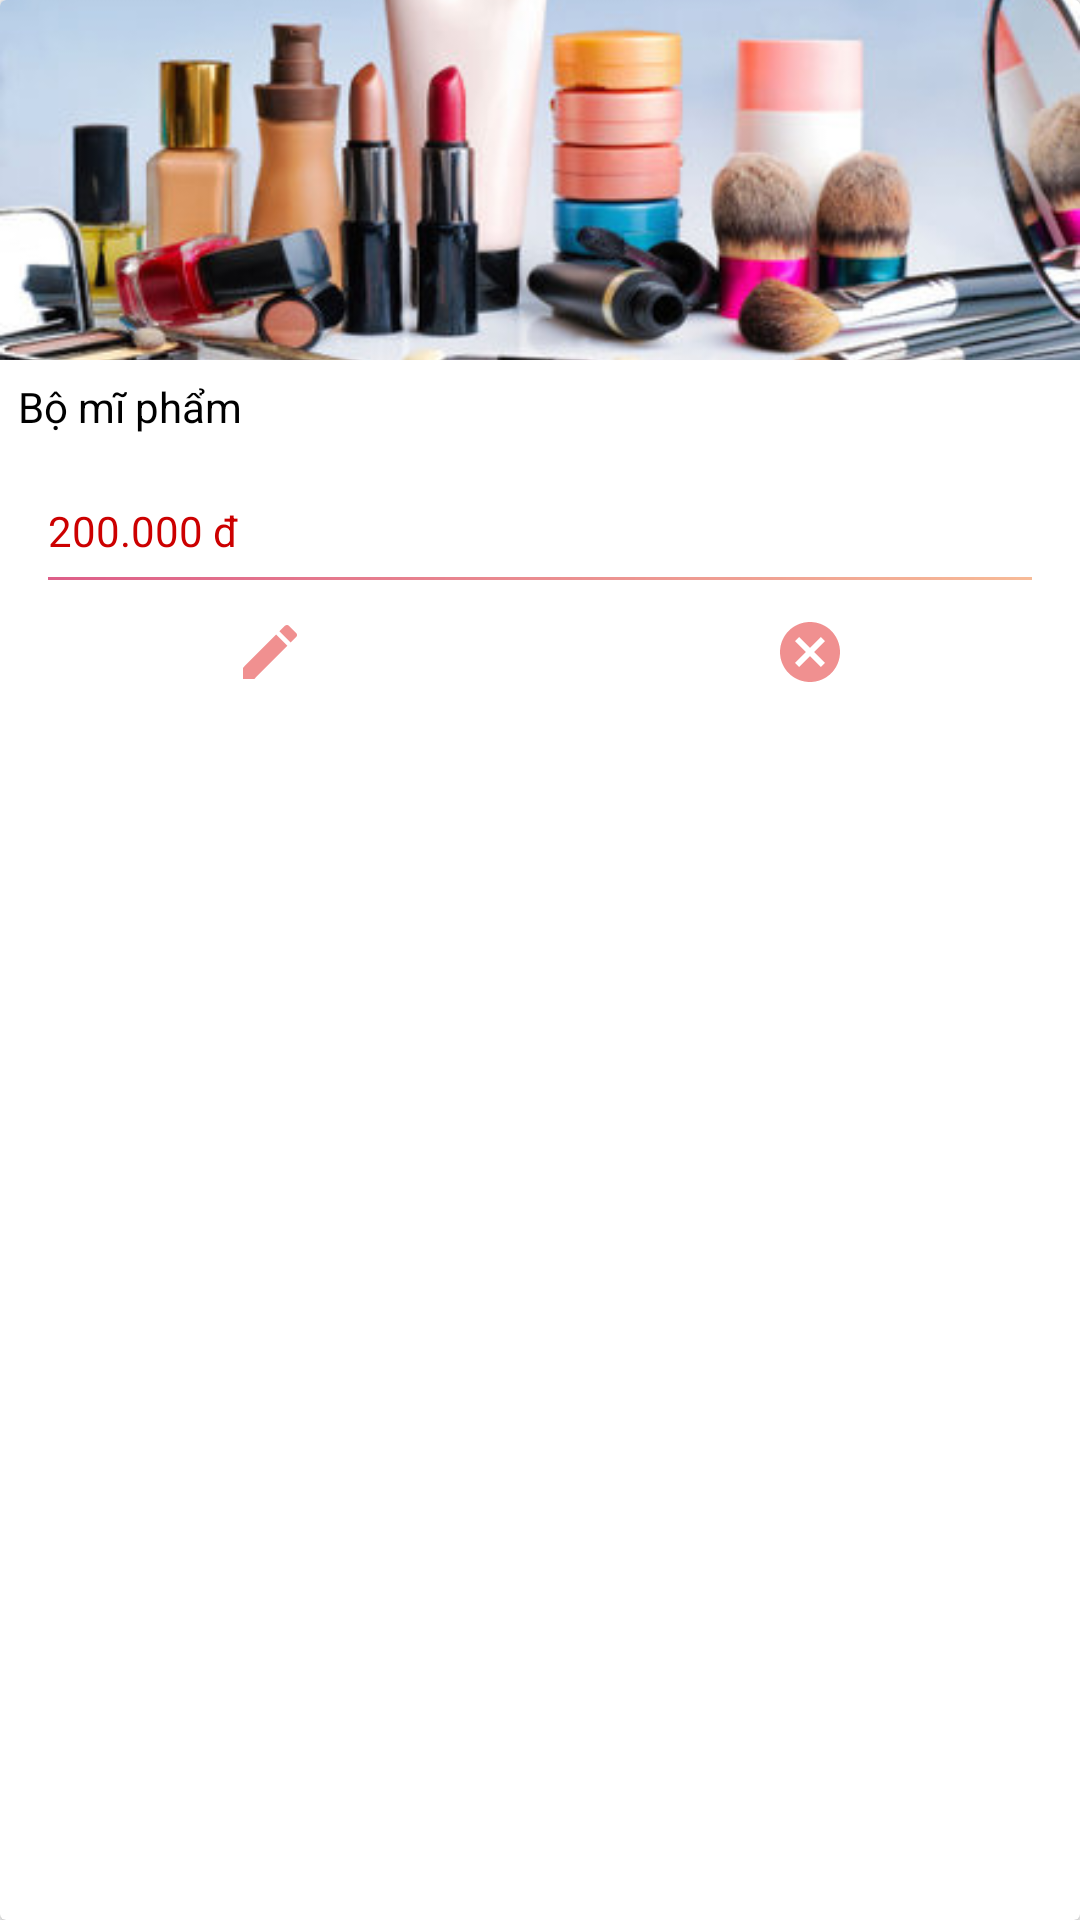

Point at icon controls on the screen. Image size 1080*1920, points as point (x, y).
delete: point (810, 652)
mode edit: point (270, 652)
